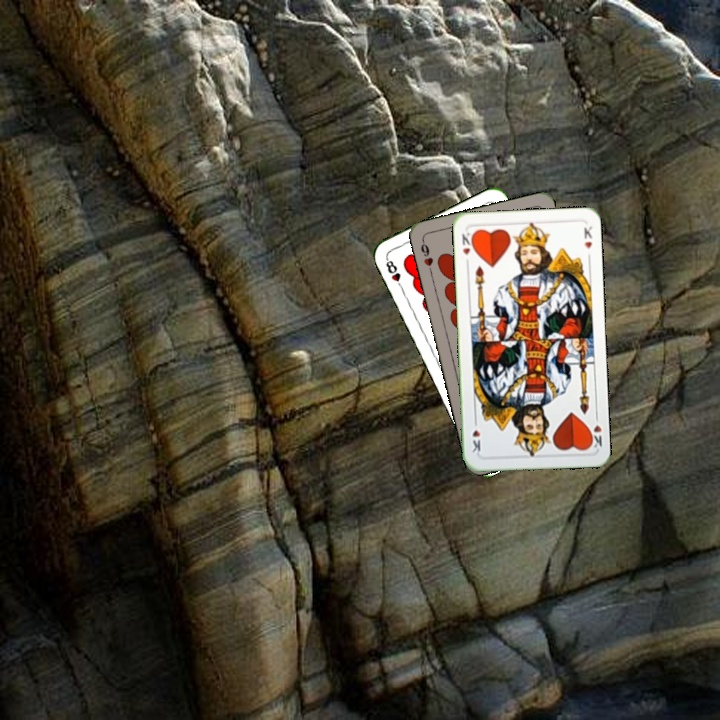H8: (382, 254, 406, 292)
H9: (417, 236, 436, 276)
HK: (585, 410, 605, 451), (458, 228, 476, 267)
